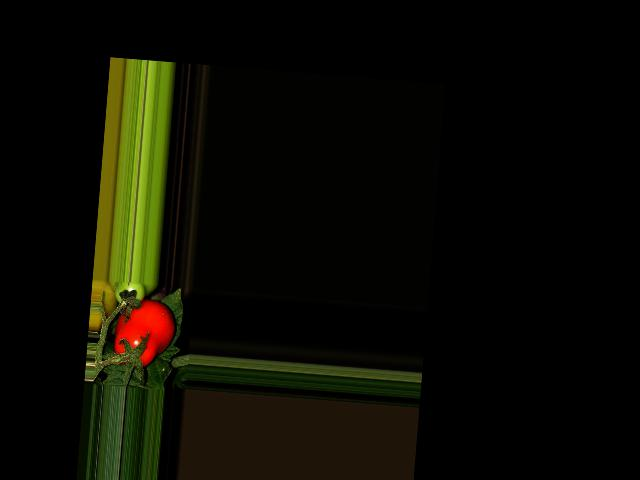tomato: (112, 297, 177, 370)
